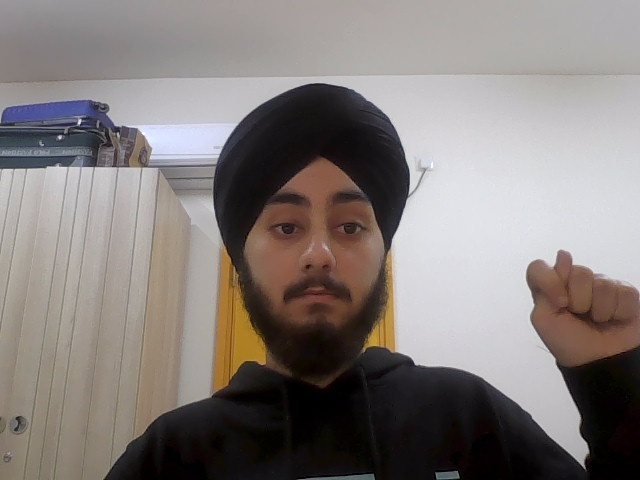Bathroom: (525, 246, 640, 364)
